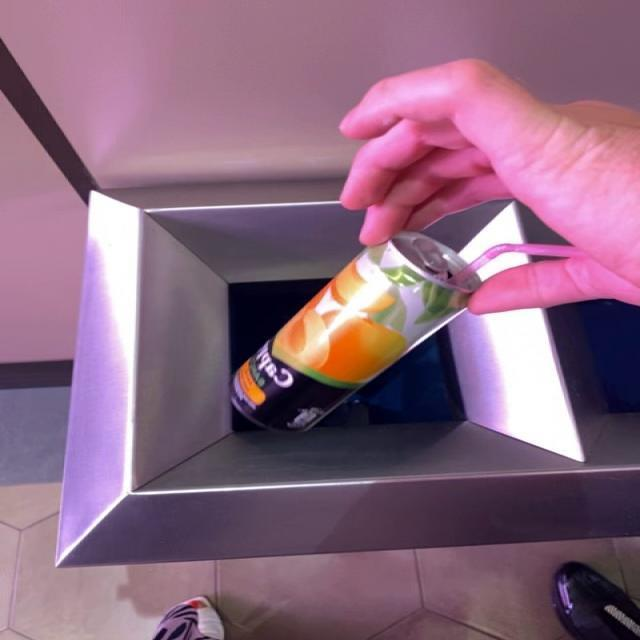Bin: (56, 181, 637, 568)
Metal: (264, 233, 481, 390)
